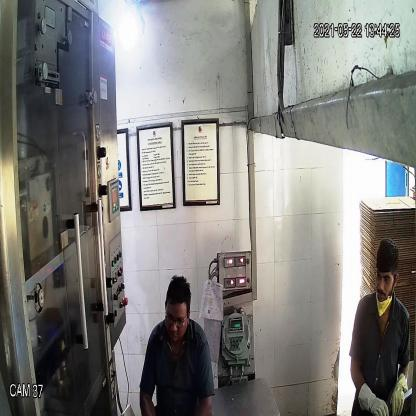goggles: (162, 309, 190, 331)
no_goggles: (373, 268, 396, 286)
